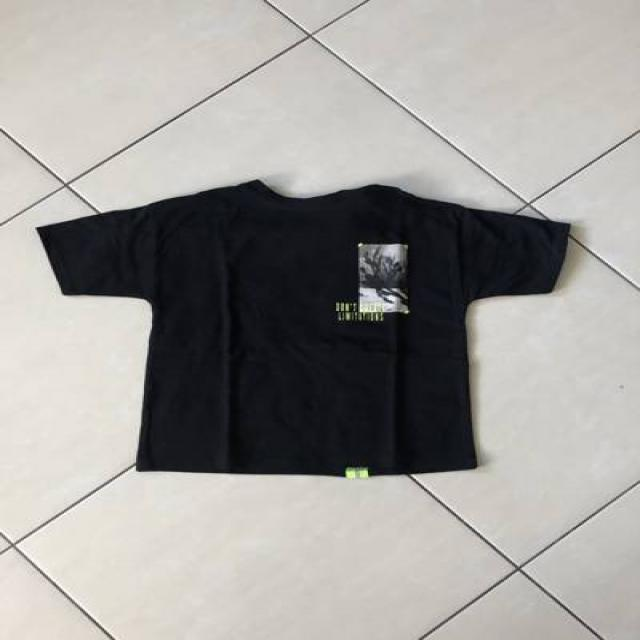Clothes -Biodegradable-: (37, 178, 569, 476)
